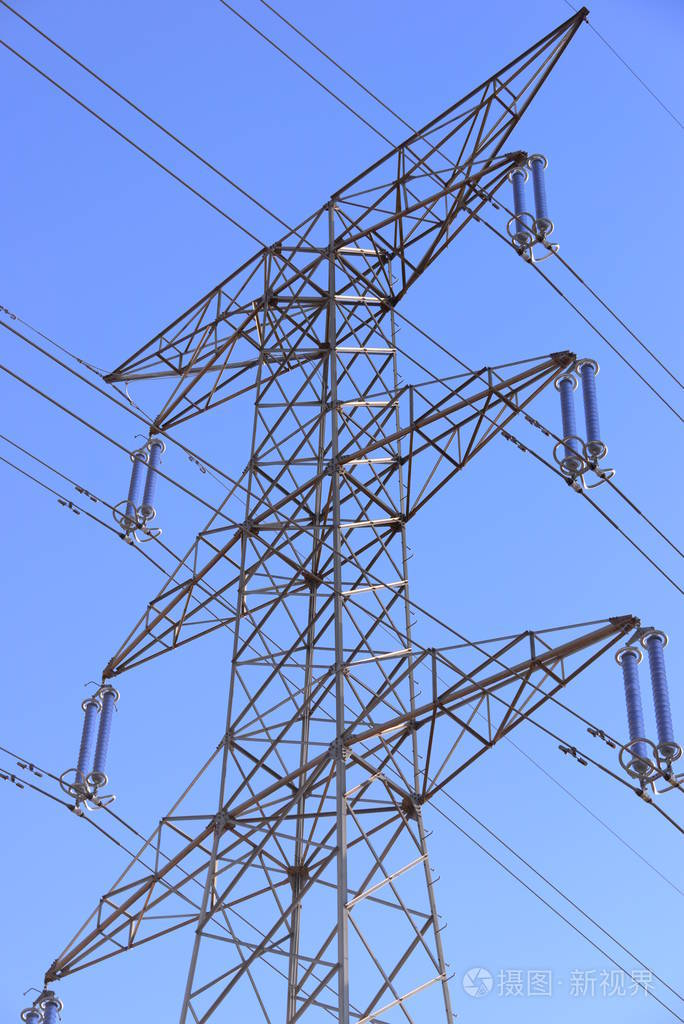insulator: (620, 636, 677, 764), (556, 363, 599, 460), (73, 688, 115, 781), (507, 158, 550, 232), (124, 445, 160, 520)
